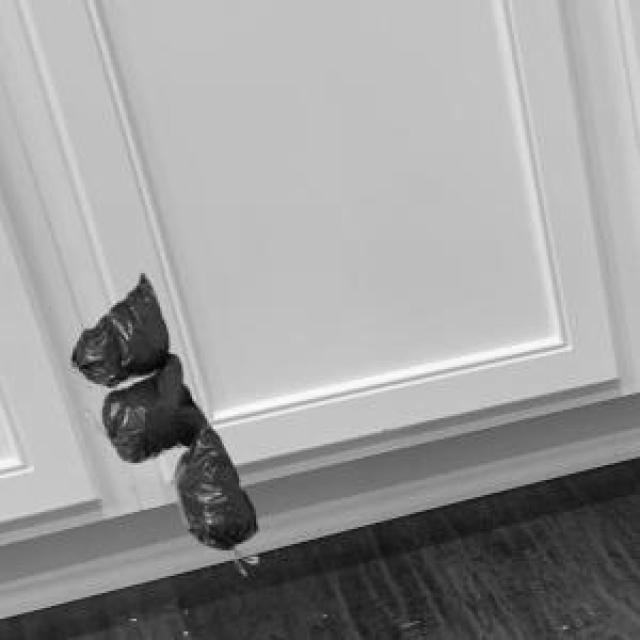miscellaneous trash: (68, 269, 254, 546)
